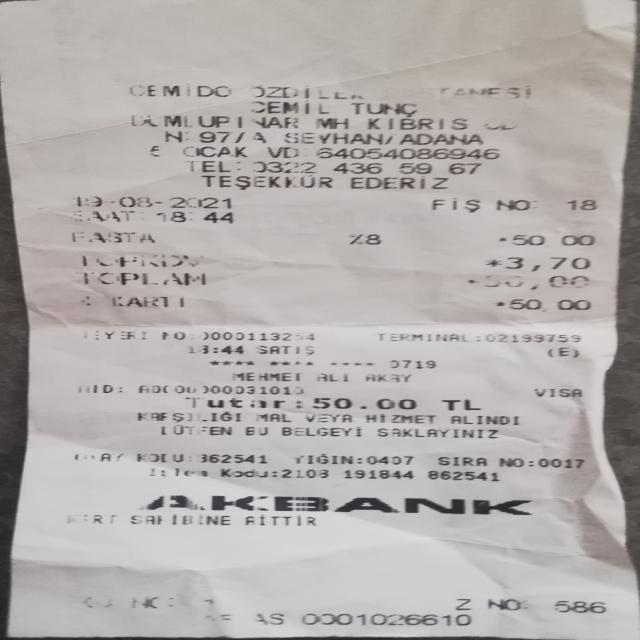text: (137, 492, 538, 516), (250, 84, 533, 101), (126, 112, 295, 130), (316, 145, 498, 161), (77, 194, 230, 210), (200, 172, 332, 190), (302, 612, 470, 626), (83, 270, 206, 286), (376, 425, 497, 440), (132, 80, 232, 98), (138, 384, 306, 394), (367, 115, 465, 132), (136, 408, 240, 424), (77, 253, 205, 266), (356, 173, 443, 191), (185, 395, 287, 410), (283, 130, 375, 146), (486, 274, 591, 288), (313, 396, 417, 410), (78, 295, 189, 308), (252, 98, 328, 116), (403, 131, 482, 147), (505, 256, 589, 271), (202, 330, 315, 341), (282, 424, 360, 439), (352, 100, 415, 118), (485, 332, 579, 344), (202, 450, 272, 466), (156, 210, 236, 224), (511, 298, 594, 311), (82, 594, 158, 608), (365, 411, 434, 426), (183, 144, 247, 160), (450, 412, 518, 427), (130, 515, 232, 525), (512, 234, 596, 246), (427, 468, 498, 482), (72, 231, 154, 243), (344, 467, 412, 481), (377, 332, 470, 342), (158, 424, 234, 436), (232, 370, 299, 383), (193, 130, 265, 142), (433, 196, 481, 213), (252, 161, 318, 173), (150, 464, 206, 478), (437, 453, 485, 469), (241, 515, 317, 525), (333, 160, 380, 176), (70, 209, 132, 221), (187, 158, 233, 174), (367, 452, 411, 468), (542, 454, 586, 470), (290, 454, 354, 465), (259, 343, 313, 356), (556, 599, 606, 613), (305, 410, 350, 425), (189, 343, 243, 355), (220, 466, 266, 480), (83, 330, 146, 340), (283, 466, 327, 480), (209, 355, 253, 368), (390, 356, 434, 369), (442, 396, 480, 411), (134, 452, 185, 463), (330, 356, 372, 369), (448, 160, 480, 177), (64, 514, 118, 524), (495, 196, 528, 212), (365, 372, 409, 384), (566, 196, 596, 213), (269, 356, 311, 368), (250, 612, 286, 626), (399, 160, 430, 176), (250, 411, 291, 423), (74, 452, 123, 462), (317, 114, 347, 130), (534, 387, 581, 397), (489, 597, 521, 611), (484, 117, 518, 130), (548, 346, 581, 359), (317, 371, 347, 384), (271, 145, 296, 160), (75, 383, 112, 393), (498, 454, 520, 469), (203, 614, 233, 624), (164, 128, 182, 144), (245, 424, 267, 437), (156, 331, 186, 340), (148, 145, 168, 158), (485, 256, 501, 271), (345, 233, 364, 245), (454, 596, 470, 609), (365, 233, 381, 245), (527, 454, 537, 469), (186, 450, 195, 465), (386, 131, 394, 146), (232, 159, 240, 174), (462, 278, 477, 285), (141, 210, 148, 222), (272, 466, 278, 479), (495, 236, 508, 242), (189, 330, 196, 341), (358, 452, 363, 467), (492, 301, 506, 306), (295, 400, 302, 409), (477, 332, 482, 343)
